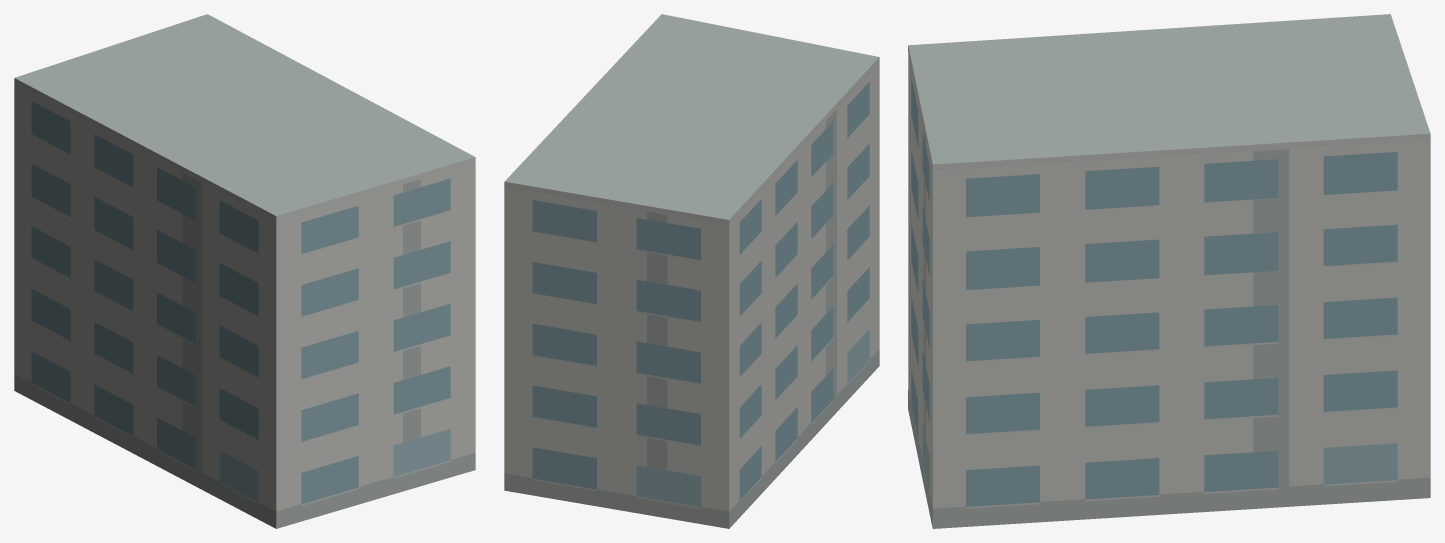
File: survey-upis-32919089.glb
3 views of the same model, side by side, from view 1: azimuth 30°, elevation 25°; view 2: azimuth 150°, elevation 25°; view 3: azimuth 270°, elevation 25° (orthographic). The views are drawn at different scales.
Visible parts, largest first — view 1: survey-upis-32919089.tmp; view 2: survey-upis-32919089.tmp; view 3: survey-upis-32919089.tmp.
Part boxes in pixels (x1=…): survey-upis-32919089.tmp: x1=14, y1=14, x2=475, y2=528; survey-upis-32919089.tmp: x1=504, y1=14, x2=879, y2=528; survey-upis-32919089.tmp: x1=908, y1=14, x2=1430, y2=528.
Bounding box in the file's own units: 11.71 × 13.2 × 17.16.
